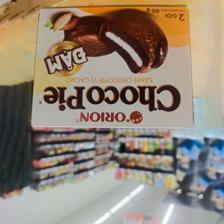Chocopie_cacao: (29, 4, 195, 130)
